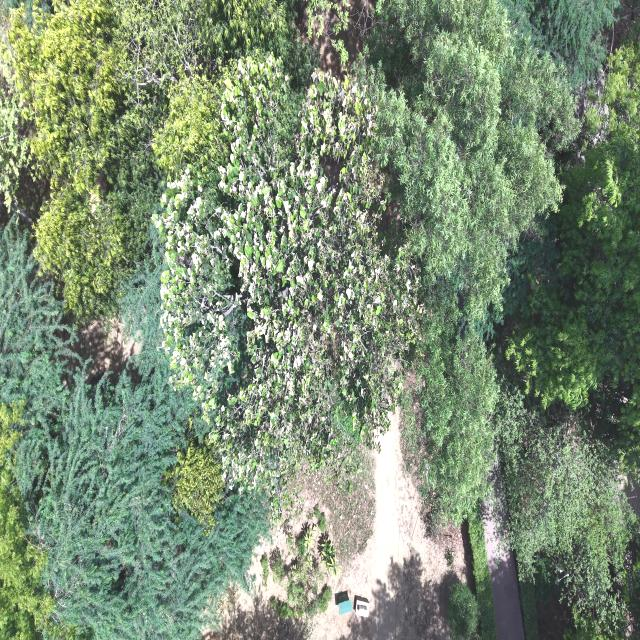DRY_AREA: (204, 411, 466, 639), (206, 413, 465, 639), (484, 510, 524, 639), (76, 319, 141, 380), (537, 588, 574, 639), (625, 480, 639, 515)
VEGETATION_TREE: (0, 0, 639, 639), (9, 1, 575, 519), (154, 2, 574, 494), (2, 2, 288, 636), (158, 55, 421, 491), (0, 218, 267, 639), (367, 2, 576, 524), (2, 0, 305, 317), (495, 31, 639, 632), (14, 368, 267, 639), (367, 1, 576, 320), (506, 40, 639, 474), (9, 1, 159, 316), (507, 141, 639, 424), (497, 380, 633, 619), (0, 218, 75, 639), (402, 281, 498, 528), (0, 403, 76, 639), (0, 215, 74, 423), (503, 0, 619, 85), (0, 462, 54, 639), (298, 443, 376, 564), (566, 534, 639, 639), (585, 26, 639, 145), (269, 522, 331, 618), (165, 438, 224, 533), (0, 34, 30, 209), (286, 523, 324, 617), (469, 508, 496, 639), (306, 0, 351, 64), (615, 535, 639, 637), (286, 558, 323, 618), (286, 557, 323, 617), (448, 581, 478, 639), (531, 554, 564, 603), (519, 578, 539, 639), (320, 534, 341, 576), (567, 621, 616, 639), (297, 523, 317, 556), (270, 548, 286, 583), (270, 597, 295, 618), (318, 585, 332, 612), (283, 524, 296, 553), (261, 553, 268, 585), (445, 545, 455, 567), (318, 512, 326, 532), (313, 504, 321, 519)
